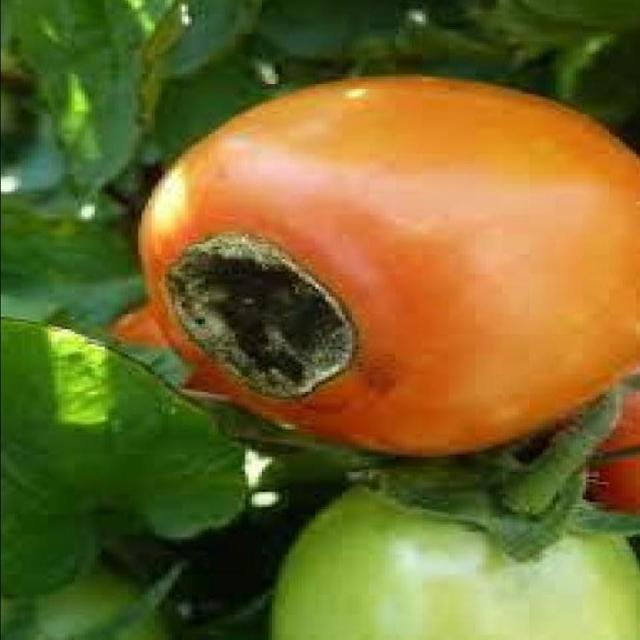Blossom End Rot Fruit: (101, 156, 249, 274)
